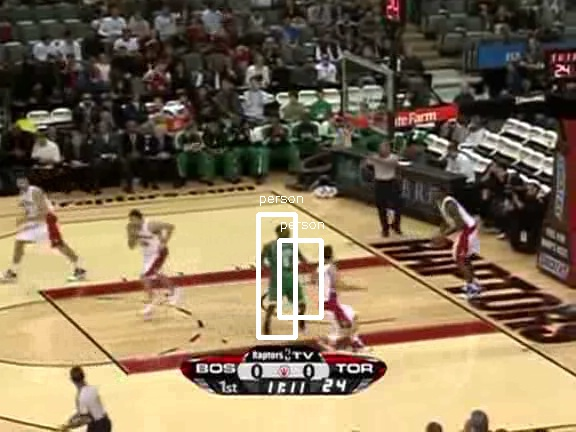person: (269, 232, 303, 313), (268, 232, 302, 313), (270, 232, 304, 313), (269, 231, 303, 312), (269, 233, 303, 314)
target_negative: (167, 56, 569, 381), (307, 236, 414, 372), (146, 247, 215, 356), (155, 415, 316, 422), (520, 131, 534, 163), (558, 336, 565, 390)
